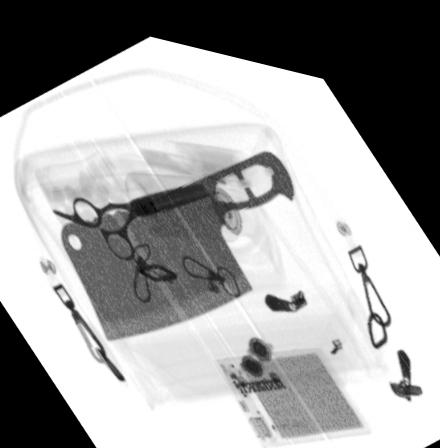Knife: (61, 139, 292, 337)
Powerbank: (213, 329, 373, 433)
Scissors: (50, 169, 213, 255)
Sprayer: (124, 165, 265, 231)
